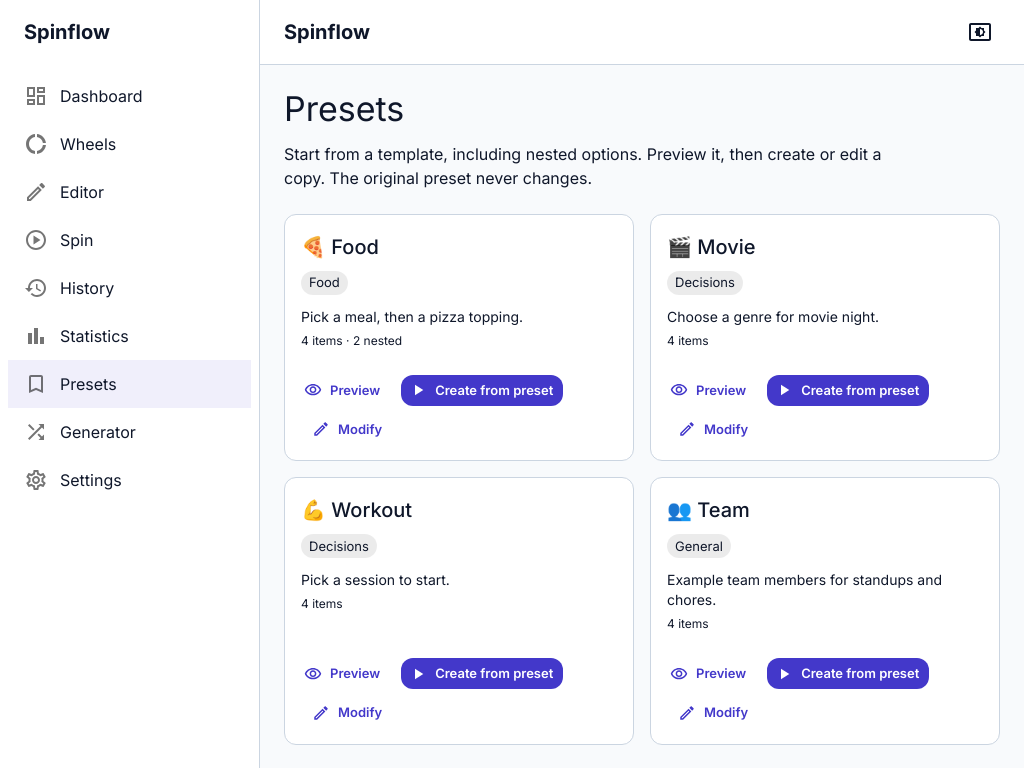
Scenario: PresetsScreen › closes the preview without creating a wheel
The width and height of the screenshot is (1024, 768).
Click the button with aria-label "Preview Food". click: (343, 390)
box: [301,375,385,406]
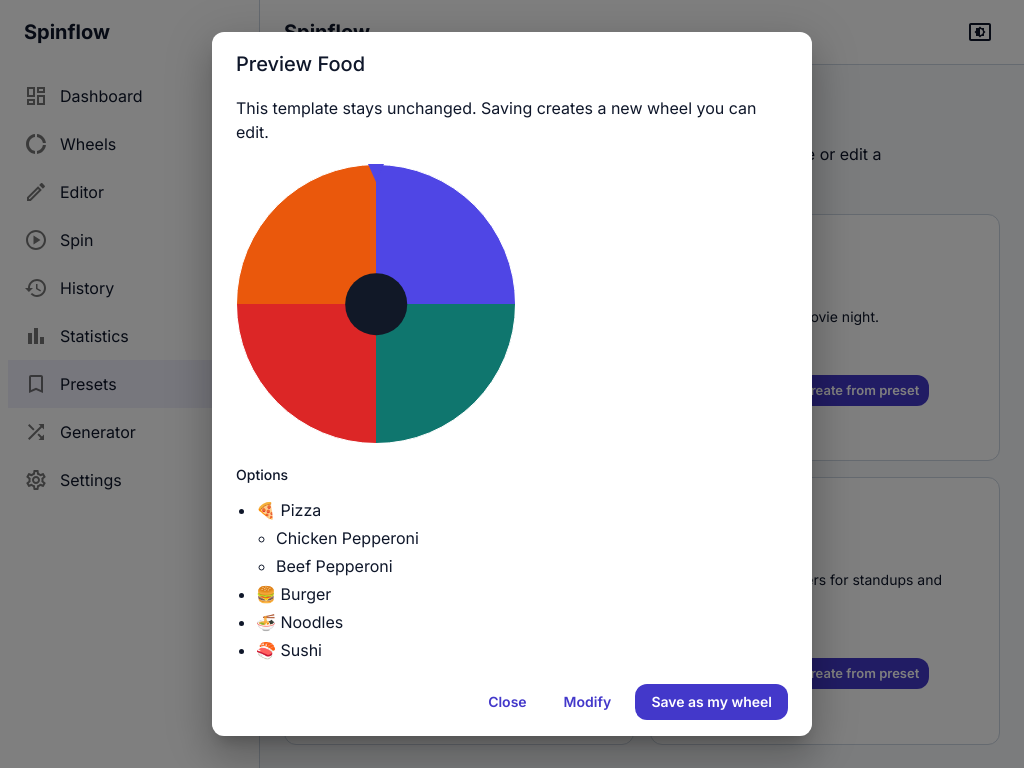
Click the button "Close". click: (507, 702)
box: [475,684,539,720]
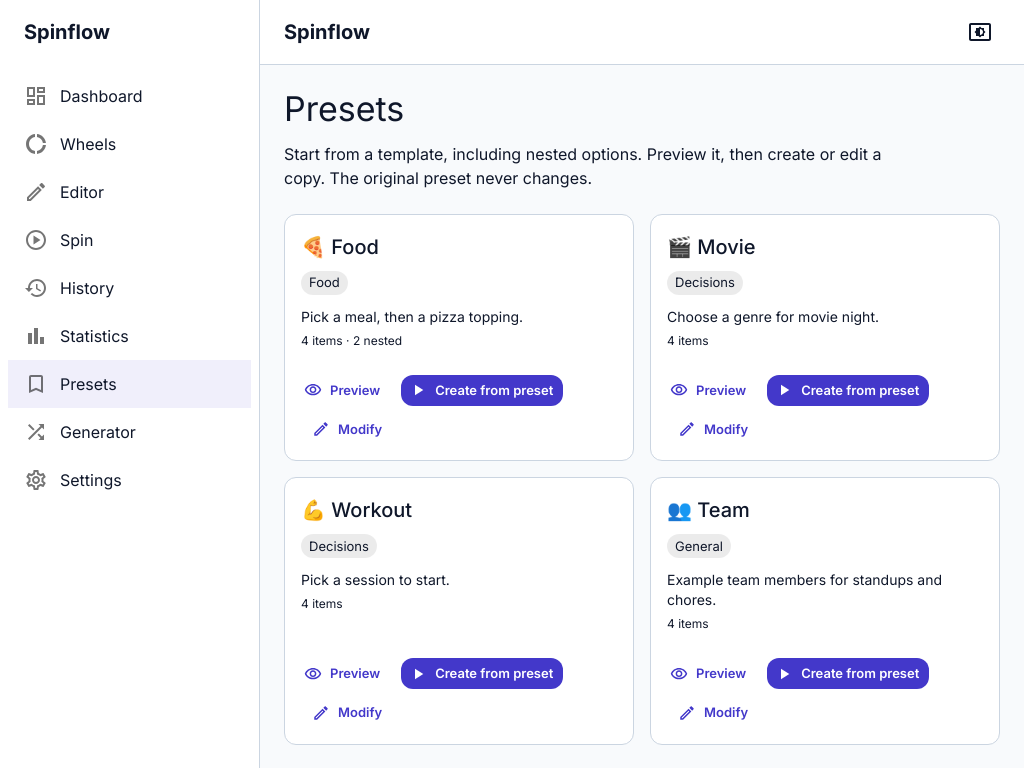
Result: the heading "Preview Food" is gone
